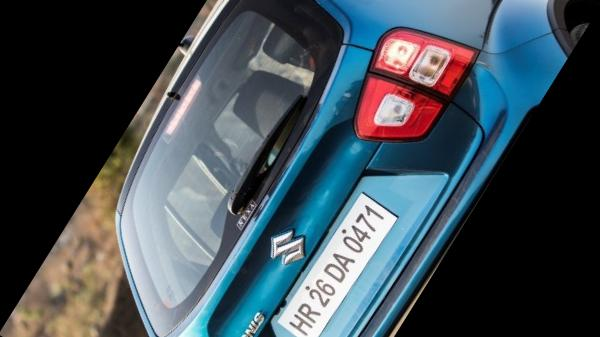plate: (276, 189, 396, 337)
